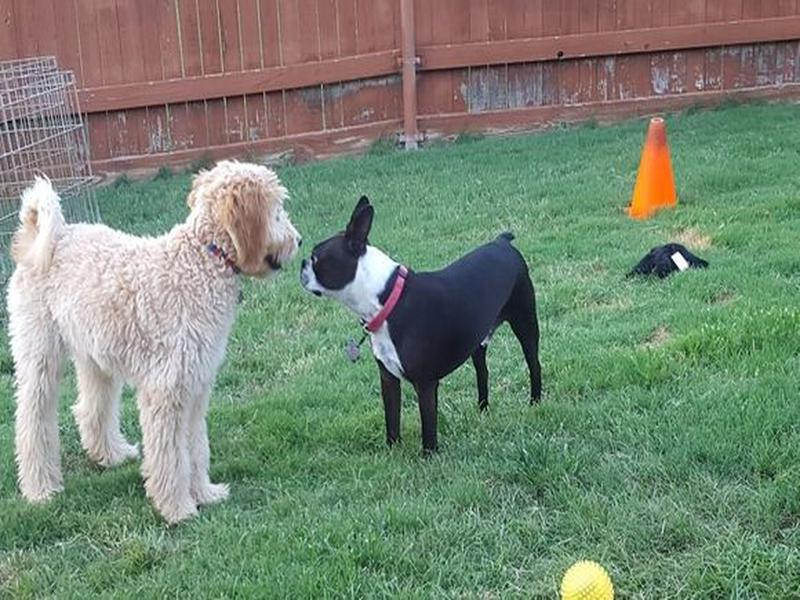dog_stand: (7, 157, 306, 518), (299, 196, 548, 466)
